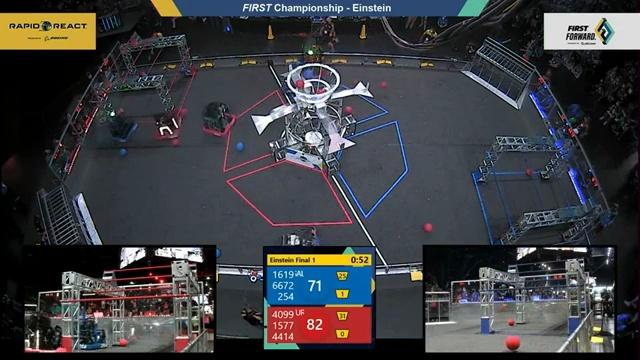robot: (25, 317, 67, 354), (199, 98, 235, 139), (105, 103, 138, 144), (152, 105, 186, 143), (275, 222, 322, 249), (280, 61, 314, 96), (73, 320, 109, 351), (297, 41, 325, 75)
